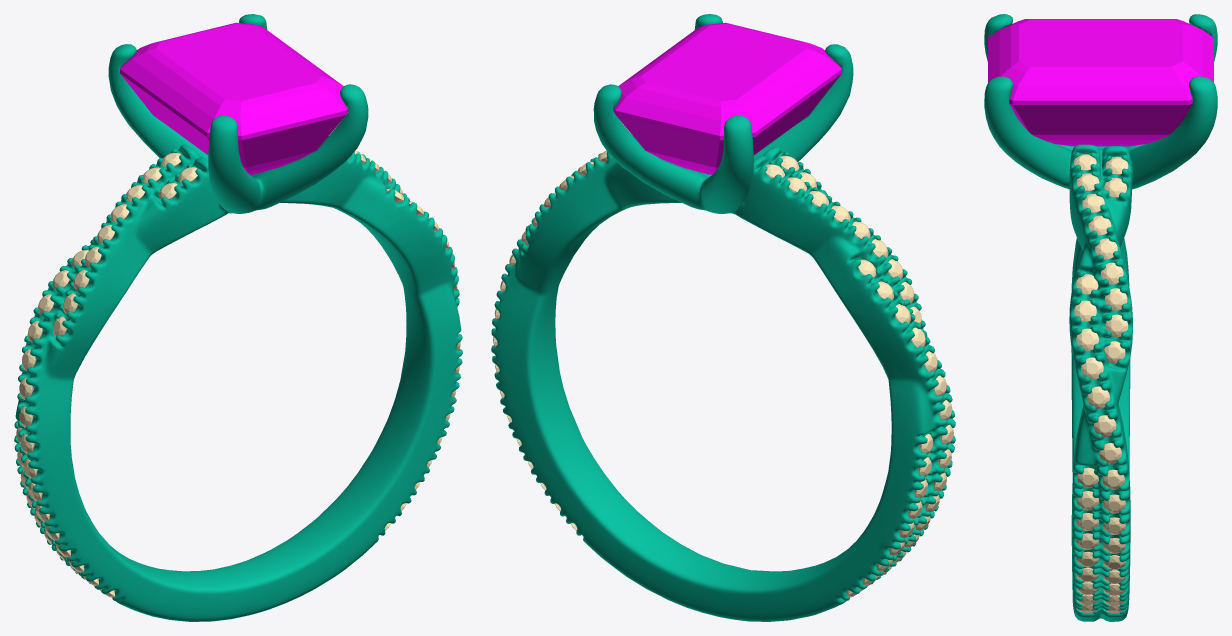
The model's file is BE1M55D_EM_200ct_RENDER.glb.
3 views of the same model, side by side, from view 1: azimuth 30°, elevation 25°; view 2: azimuth 150°, elevation 25°; view 3: azimuth 270°, elevation 25° (orthographic).
Parts seen in each view (by area): view 1: Metal 01, CS_Diamond_Emerald; view 2: Metal 01, CS_Diamond_Emerald; view 3: Metal 01, CS_Diamond_Emerald, Diamond_Round_Gem_SH.059, Diamond_Round_Gem_SH.058, Diamond_Round_Gem_SH.060, Diamond_Round_Gem_SH.045, Diamond_Round_Gem_SH.057, Diamond_Round_Gem_SH.044, Diamond_Round_Gem_SH.043, Diamond_Round_Gem_SH.061, Diamond_Round_Gem_SH.046, Diamond_Round_Gem_SH.056 (+3 smaller).
Part boxes in pixels (box(x1,y1,x2,y2)): Metal 01: box(14, 14, 462, 621); CS_Diamond_Emerald: box(120, 22, 348, 174); Metal 01: box(491, 14, 955, 621); CS_Diamond_Emerald: box(613, 22, 841, 174); Metal 01: box(984, 14, 1217, 621); CS_Diamond_Emerald: box(988, 19, 1213, 146); Diamond_Round_Gem_SH.059: box(1081, 357, 1103, 379); Diamond_Round_Gem_SH.058: box(1087, 386, 1109, 408); Diamond_Round_Gem_SH.060: box(1076, 328, 1098, 350); Diamond_Round_Gem_SH.045: box(1105, 314, 1128, 337); Diamond_Round_Gem_SH.057: box(1094, 415, 1116, 436); Diamond_Round_Gem_SH.044: box(1105, 288, 1127, 310); Diamond_Round_Gem_SH.043: box(1101, 262, 1123, 284); Diamond_Round_Gem_SH.061: box(1074, 300, 1096, 321); Diamond_Round_Gem_SH.046: box(1104, 341, 1125, 363); Diamond_Round_Gem_SH.056: box(1099, 443, 1121, 464).
Size of the model in its own units: 20.69 by 24.38 by 9.3.
